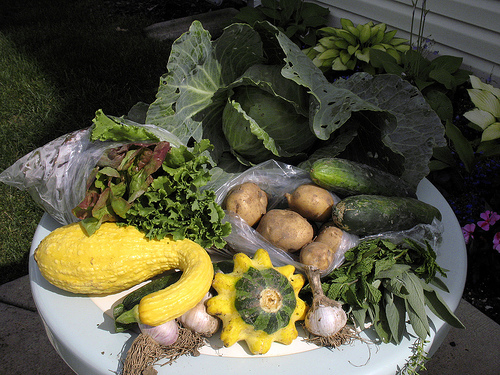cucumber: (311, 156, 417, 203), (330, 194, 448, 233)
